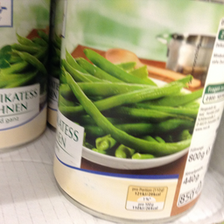beans: (55, 1, 224, 223)
